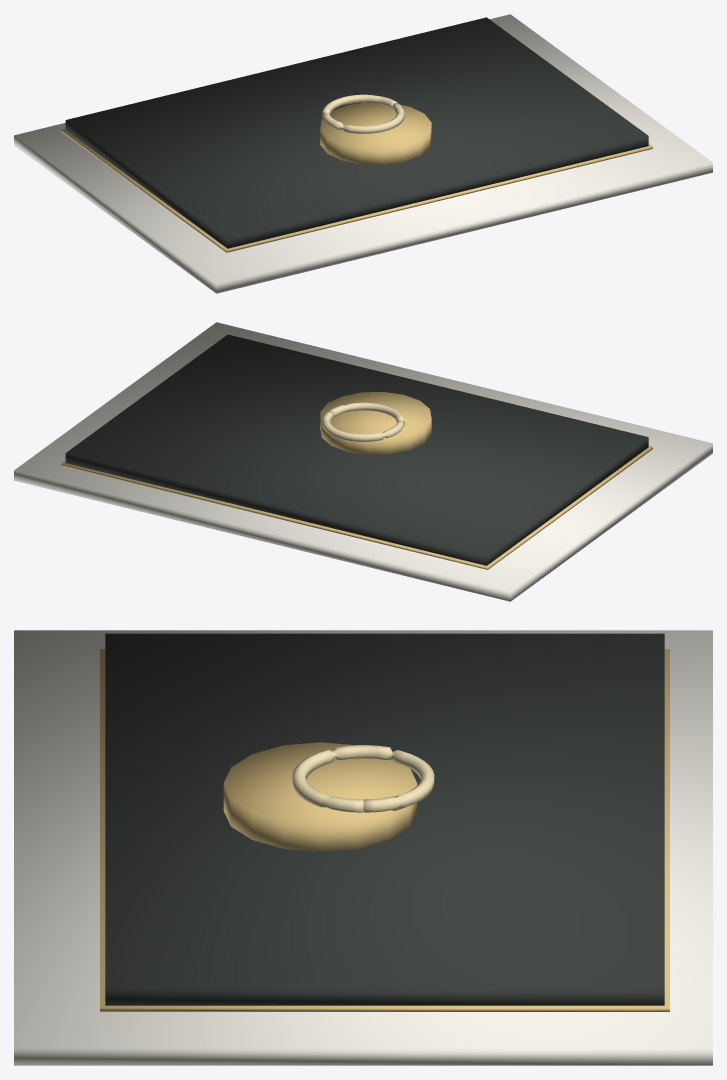
Rendered from invitation-suite.glb.
3 renders of one model, top to bottom at view 1: azimuth 30°, elevation 25°; view 2: azimuth 150°, elevation 25°; view 3: azimuth 270°, elevation 25°, orthographic. The views are drawn at different scales.
Visible parts, largest first — view 1: card-1, envelope-0, seal-3, gold-border-2, seal-ring-4; view 2: card-1, envelope-0, seal-3, gold-border-2, seal-ring-4; view 3: card-1, envelope-0, seal-3, gold-border-2, seal-ring-4.
Boxes of the visible parts, x1,y1,x2,y2 form: card-1: (65,17,648,248); envelope-0: (14,14,712,293); seal-3: (320,102,431,164); gold-border-2: (61,128,652,252); seal-ring-4: (322,94,404,133); card-1: (65,334,648,565); envelope-0: (14,322,712,601); seal-3: (320,392,431,454); gold-border-2: (61,446,652,569); seal-ring-4: (322,402,404,442); card-1: (105,633,664,1005); envelope-0: (14,630,712,1065); seal-3: (223,742,417,851); gold-border-2: (100,649,669,1011); seal-ring-4: (292,745,434,812).
Bounding box in the file's own units: 0.92 × 0.086 × 0.65.
